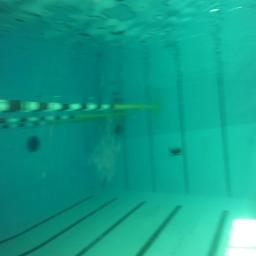Full: (169, 146, 182, 156)
